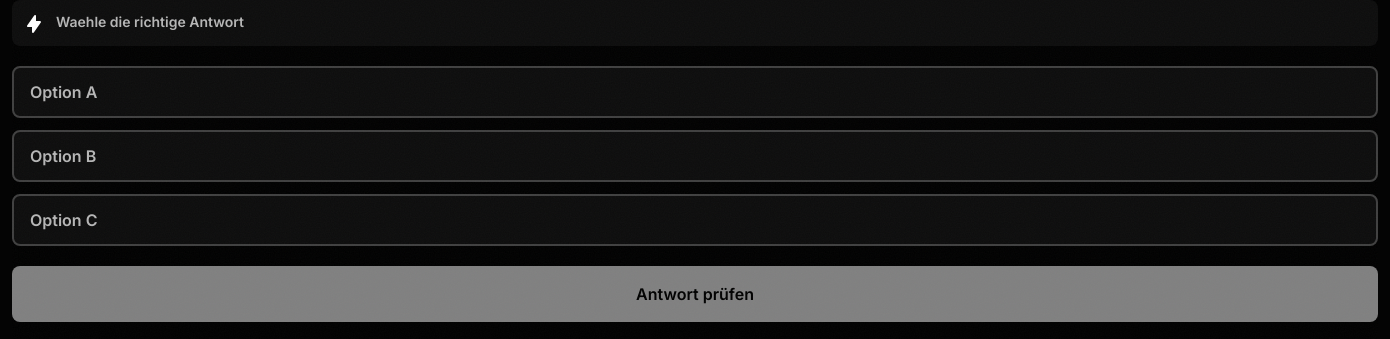
Test: LogicPuzzle › with multiple choice options › should enable submit when option is selected
Click the button "Option B" at (63, 156), box x1=12 y1=130 x2=1378 y2=182
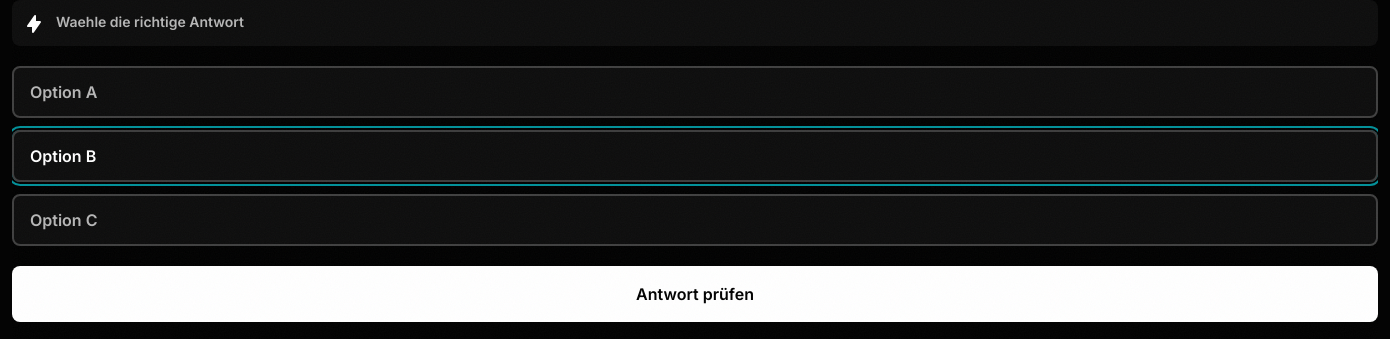
Check: the button "Antwort prüfen" is enabled, box x1=12 y1=266 x2=1378 y2=322
